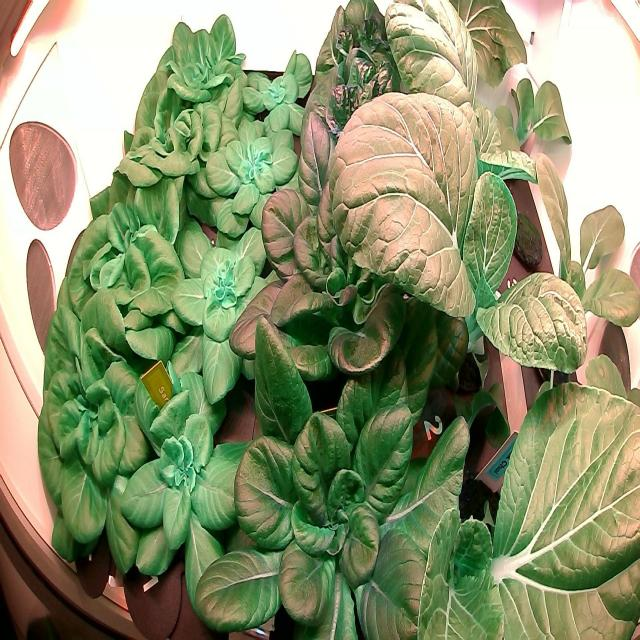Ready: (189, 308, 487, 640), (222, 82, 488, 424), (31, 274, 167, 586), (45, 147, 215, 367), (89, 44, 229, 235), (300, 0, 423, 175), (291, 45, 422, 197), (131, 7, 247, 164)
pod: (508, 200, 548, 274)
young: (110, 358, 257, 634), (166, 195, 286, 410), (197, 99, 307, 248), (234, 32, 318, 147)
